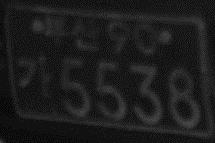0: (131, 20, 159, 57)
3: (127, 62, 164, 126)
5: (57, 55, 93, 117), (92, 60, 126, 124)
8: (166, 67, 202, 131)
9: (105, 19, 131, 56)
가: (16, 52, 56, 101)
부산_O: (44, 14, 103, 52)
